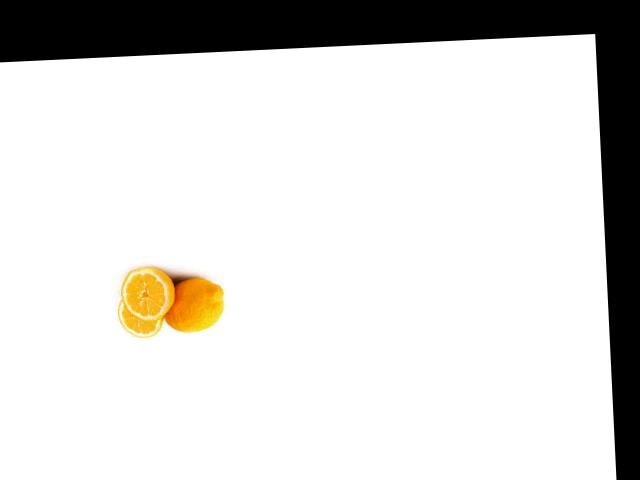lemon: (161, 275, 229, 336)
